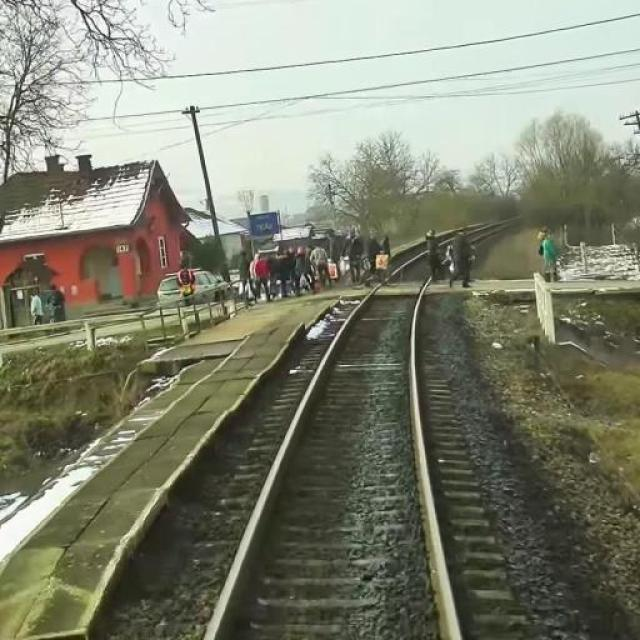people: (539, 227, 568, 284), (446, 228, 472, 288), (423, 221, 447, 284), (347, 233, 370, 295), (250, 254, 274, 311), (48, 281, 72, 332), (313, 245, 335, 295), (292, 243, 311, 300), (272, 250, 292, 298), (24, 285, 44, 330), (375, 236, 390, 286)
vehicle: (154, 272, 242, 310)
